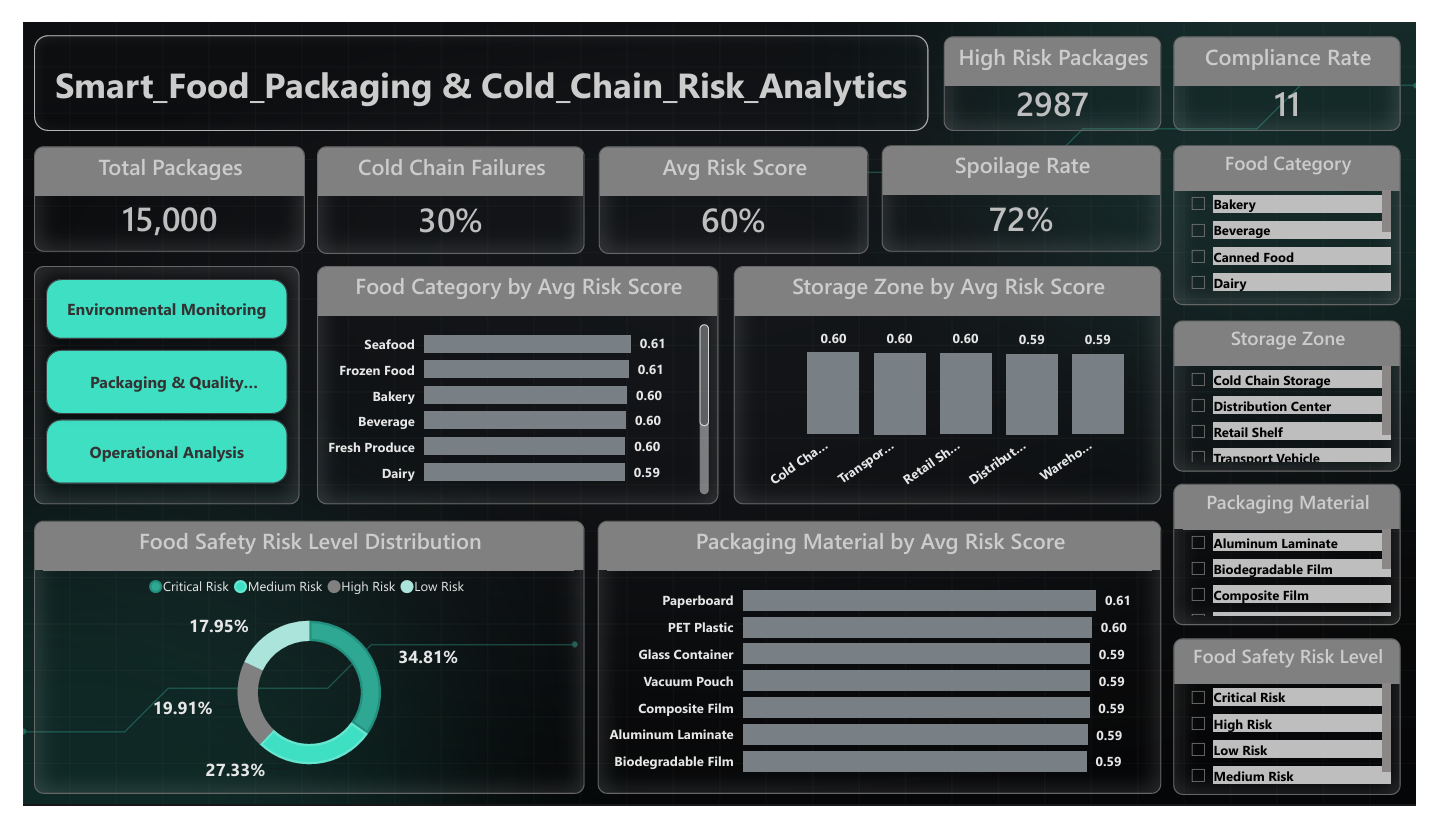

The dashboard page shown, as its layout file describes it:
{"tool":"powerbi","page":{"name":"Executive Overview","canvas":[1280,720],"ordinal":0},"visuals":[{"type":"card","title":"Total Packages","fields":{"Values":["CountNonNull(Smart_Food_Packaging & Cold_Chain_Risk_Analytics.Sample_ID)"]},"box":[10,114.3,248.6,97.1],"z":0},{"type":"card","title":"Avg Risk Score","fields":{"Values":["Smart_Food_Packaging & Cold_Chain_Risk_Analytics.Average Risk Score"]},"box":[528.6,114.3,248.6,98.6],"z":1000},{"type":"card","title":"High Risk Packages","fields":{"Values":["Smart_Food_Packaging & Cold_Chain_Risk_Analytics.High Risk Packages"]},"box":[845.7,12.9,200,87.1],"z":2000},{"type":"card","title":"Compliance Rate","fields":{"Values":["Smart_Food_Packaging & Cold_Chain_Risk_Analytics.Food Safety Compliance Rate (%)"]},"box":[1057.1,12.9,208.6,87.1],"z":3000},{"type":"card","title":"Cold Chain Failures","fields":{"Values":["Smart_Food_Packaging & Cold_Chain_Risk_Analytics.Cold Chain Failure Rate (%)"]},"box":[270,114.3,245.7,98.6],"z":4000},{"type":"barChart","title":"Food Category by Avg Risk Score","fields":{"Category":["Smart_Food_Packaging & Cold_Chain_Risk_Analytics.Food_Category"],"Y":["Avg(Smart_Food_Packaging & Cold_Chain_Risk_Analytics.Risk_Score)"]},"box":[270.3,223.7,369.1,219.6],"z":5000},{"type":"card","title":"Spoilage Rate","fields":{"Values":["Smart_Food_Packaging & Cold_Chain_Risk_Analytics.Spoilage Probability Rate (%)"]},"box":[788.6,112.9,257.1,98.6],"z":6000},{"type":"clusteredColumnChart","title":" Storage Zone by Avg Risk Score","fields":{"Category":["Smart_Food_Packaging & Cold_Chain_Risk_Analytics.Storage_Zone"],"Y":["Avg(Smart_Food_Packaging & Cold_Chain_Risk_Analytics.Risk_Score)"]},"box":[653.2,223.7,392.5,219.6],"z":7000},{"type":"donutChart","title":"Food Safety Risk Level Distribution","fields":{"Category":["Smart_Food_Packaging & Cold_Chain_Risk_Analytics.Food_Safety_Risk_Level"],"Y":["CountNonNull(Smart_Food_Packaging & Cold_Chain_Risk_Analytics.Food_Safety_Risk_Level)"]},"box":[9.6,458.3,506.3,251.1],"z":8000},{"type":"barChart","title":"Packaging Material by Avg Risk Score","fields":{"Category":["Smart_Food_Packaging & Cold_Chain_Risk_Analytics.Packaging_Material"],"Y":["Avg(Smart_Food_Packaging & Cold_Chain_Risk_Analytics.Risk_Score)"]},"box":[528.3,458.3,517.3,251.1],"z":9000},{"type":"slicer","title":"Food Category","fields":{"Values":["Smart_Food_Packaging & Cold_Chain_Risk_Analytics.Food_Category"]},"box":[1057.1,112.9,208.6,147.1],"z":10000},{"type":"slicer","title":"Storage Zone","fields":{"Values":["Smart_Food_Packaging & Cold_Chain_Risk_Analytics.Storage_Zone"]},"box":[1057.1,274.3,208.6,138.6],"z":11000},{"type":"slicer","title":"Packaging Material","fields":{"Values":["Smart_Food_Packaging & Cold_Chain_Risk_Analytics.Packaging_Material"]},"box":[1057.1,424.3,208.6,130],"z":12000},{"type":"slicer","title":"Food Safety Risk Level","fields":{"Values":["Smart_Food_Packaging & Cold_Chain_Risk_Analytics.Food_Safety_Risk_Level"]},"box":[1057.1,565.7,208.6,144.3],"z":13000},{"type":"shape","box":[9.6,12.3,822,87.8],"z":14000},{"type":"shape","box":[9.6,223.7,244.3,219.6],"z":15000},{"type":"shape","box":[20.6,236,222.3,54.9],"z":16000},{"type":"shape","box":[20.6,365,222.3,59],"z":17000},{"type":"shape","box":[20.6,300.5,222.3,59],"z":18000}]}

Visuals, with their boxes in screenshot pixels (x1, y1, x2, y2), scaled from the page's 1280x720 canvas onto the 1431x827 screenshot:
"Total Packages" card: [x1=11, y1=131, x2=289, y2=243]
"Avg Risk Score" card: [x1=591, y1=131, x2=869, y2=245]
"High Risk Packages" card: [x1=945, y1=15, x2=1169, y2=115]
"Compliance Rate" card: [x1=1182, y1=15, x2=1415, y2=115]
"Cold Chain Failures" card: [x1=302, y1=131, x2=577, y2=245]
"Food Category by Avg Risk Score" barChart: [x1=302, y1=257, x2=715, y2=509]
"Spoilage Rate" card: [x1=882, y1=130, x2=1169, y2=243]
" Storage Zone by Avg Risk Score" clusteredColumnChart: [x1=730, y1=257, x2=1169, y2=509]
"Food Safety Risk Level Distribution" donutChart: [x1=11, y1=526, x2=577, y2=815]
"Packaging Material by Avg Risk Score" barChart: [x1=591, y1=526, x2=1169, y2=815]
"Food Category" slicer: [x1=1182, y1=130, x2=1415, y2=299]
"Storage Zone" slicer: [x1=1182, y1=315, x2=1415, y2=474]
"Packaging Material" slicer: [x1=1182, y1=487, x2=1415, y2=637]
"Food Safety Risk Level" slicer: [x1=1182, y1=650, x2=1415, y2=816]
shape: [x1=11, y1=14, x2=930, y2=115]
shape: [x1=11, y1=257, x2=284, y2=509]
shape: [x1=23, y1=271, x2=272, y2=334]
shape: [x1=23, y1=419, x2=272, y2=487]
shape: [x1=23, y1=345, x2=272, y2=413]
